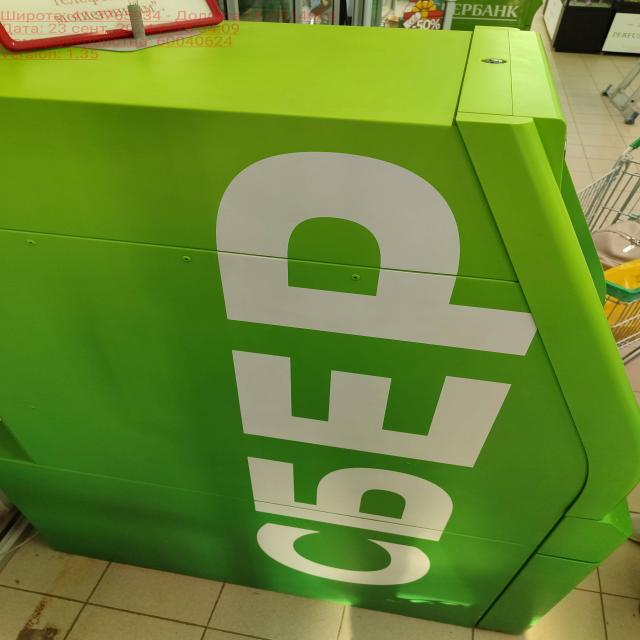bank: (0, 16, 640, 636)
